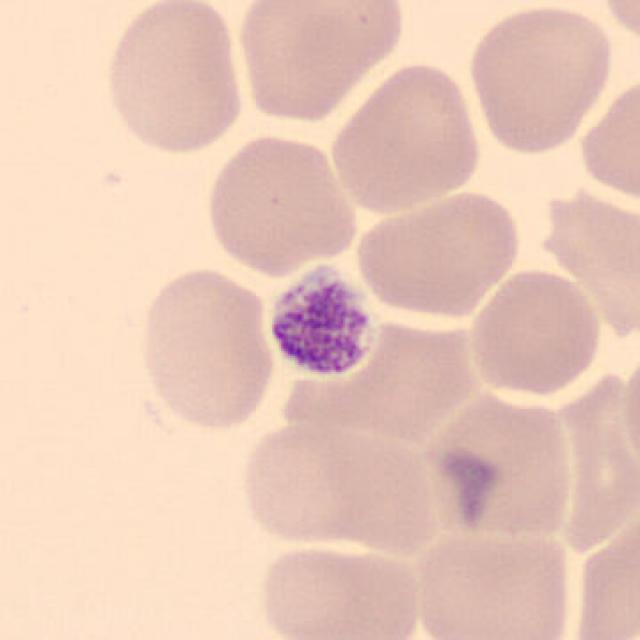Platelets: (262, 259, 381, 388)
RBC: (233, 418, 441, 552), (420, 384, 580, 543), (326, 58, 486, 215), (134, 261, 278, 435), (464, 2, 617, 157), (350, 187, 526, 321), (99, 0, 249, 157), (201, 130, 361, 277), (231, 0, 409, 125), (407, 520, 578, 640), (464, 264, 604, 398), (254, 537, 424, 640), (565, 504, 640, 638), (574, 72, 638, 204), (620, 340, 640, 480), (595, 0, 640, 51)
